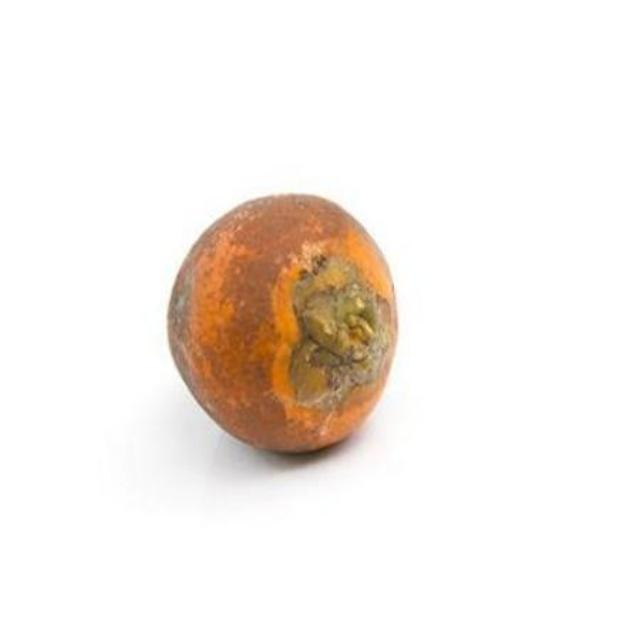good: (166, 195, 400, 455)
